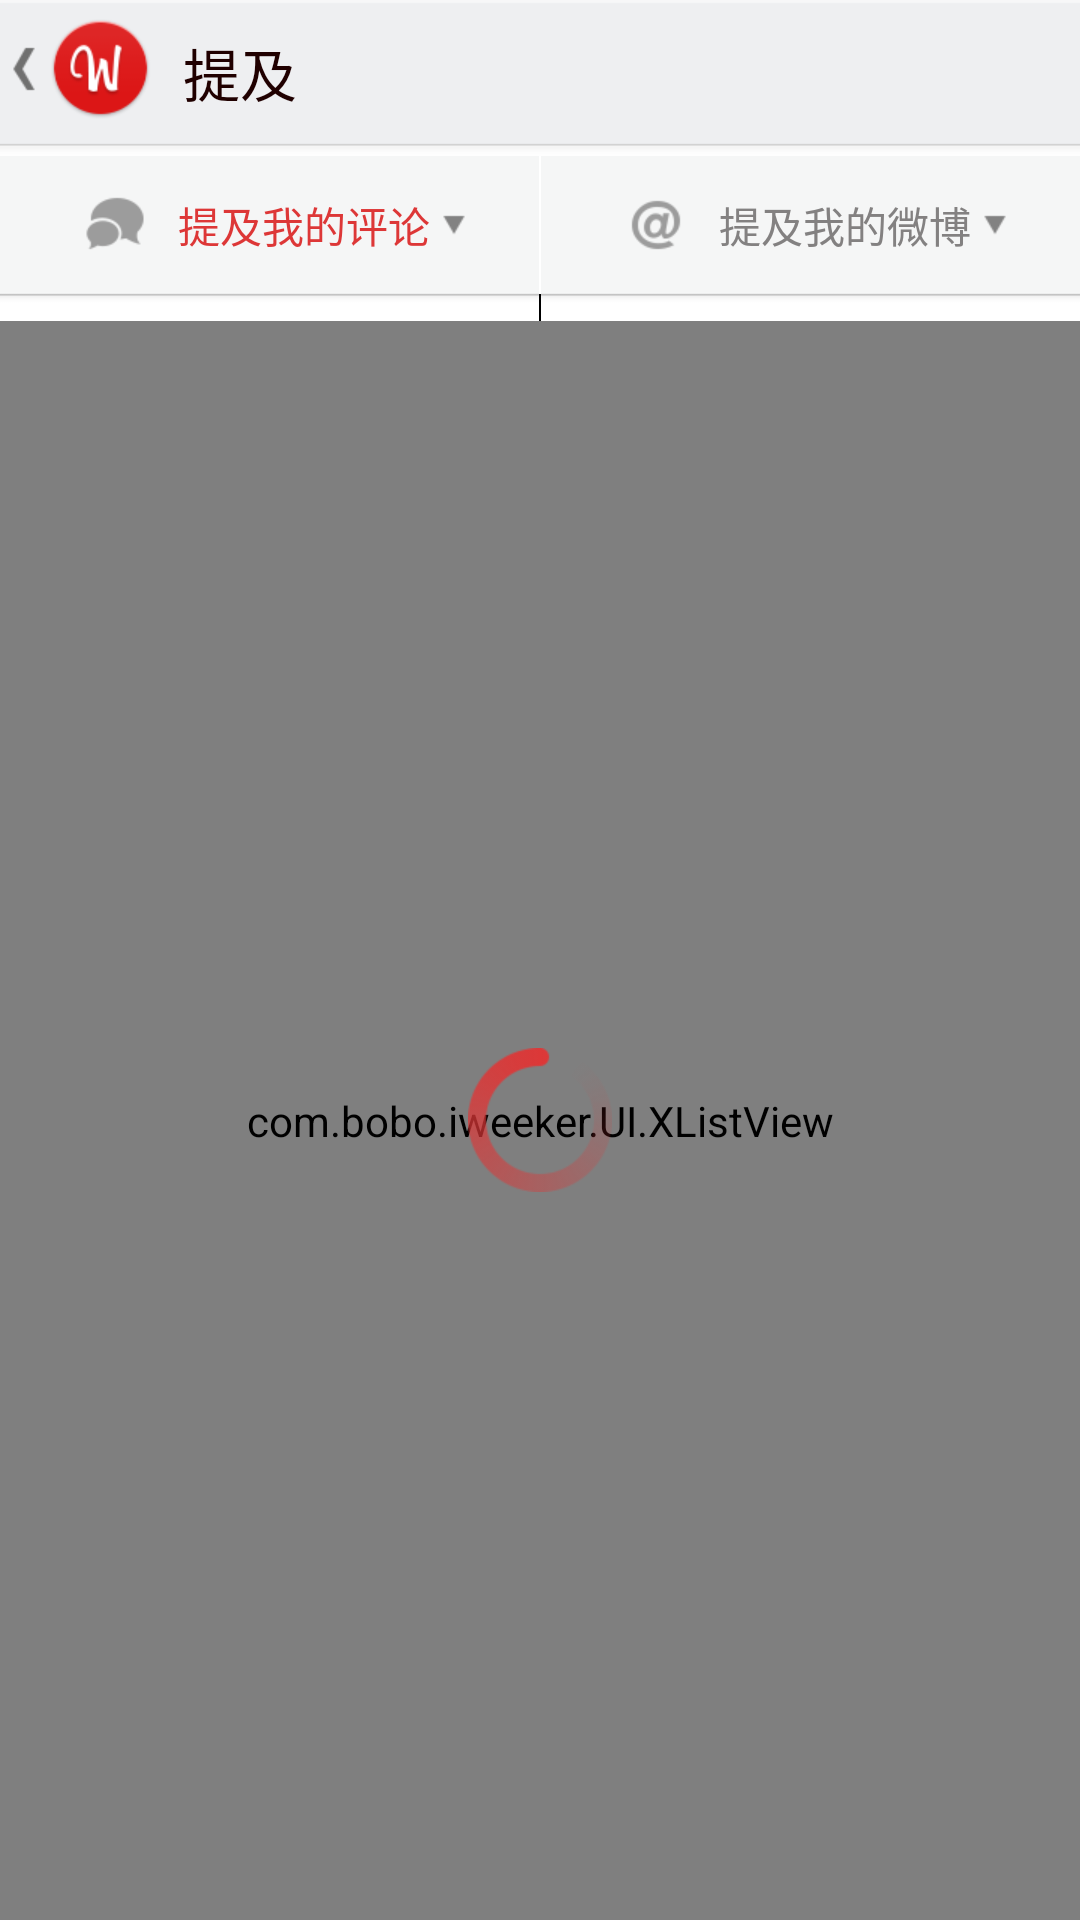

Named icons in this screenshot (1080×1920) and their bounding boxes, [left=x1, top=y1, right=x2, bottom=y2]:
activity back: [left=13, top=48, right=35, bottom=90]
message tab comment: [left=86, top=198, right=144, bottom=249]
message tab mention: [left=632, top=201, right=680, bottom=249]
